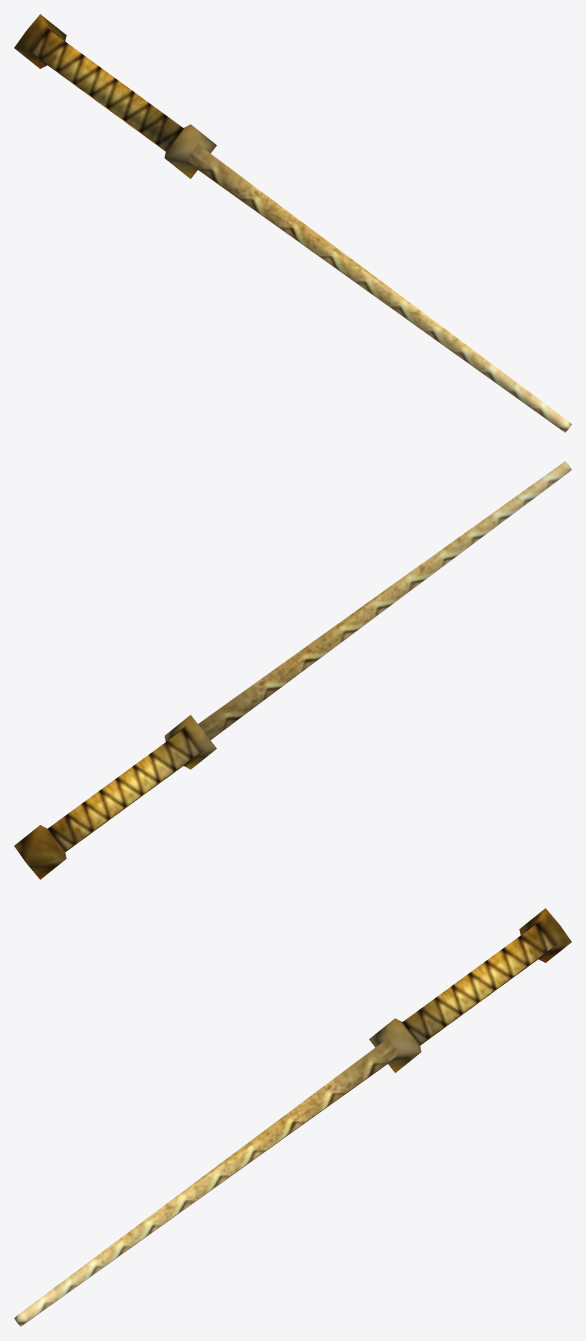
File: bacchetta.glb
The picture shows the model from 3 angles, top to bottom: view 1: azimuth 30°, elevation 25°; view 2: azimuth 150°, elevation 25°; view 3: azimuth 330°, elevation 25°; orthographic projection.
Visible parts, largest first — view 1: wand_1; view 2: wand_1; view 3: wand_1.
Part boxes in pixels (x1,y1,x2,y2): wand_1: (14,14,571,432); wand_1: (14,461,571,879); wand_1: (14,908,571,1326).
Bounding box in the file's own units: 0.0679 × 0.0679 × 1.21.
Materials: 1 (1 with a texture image).
